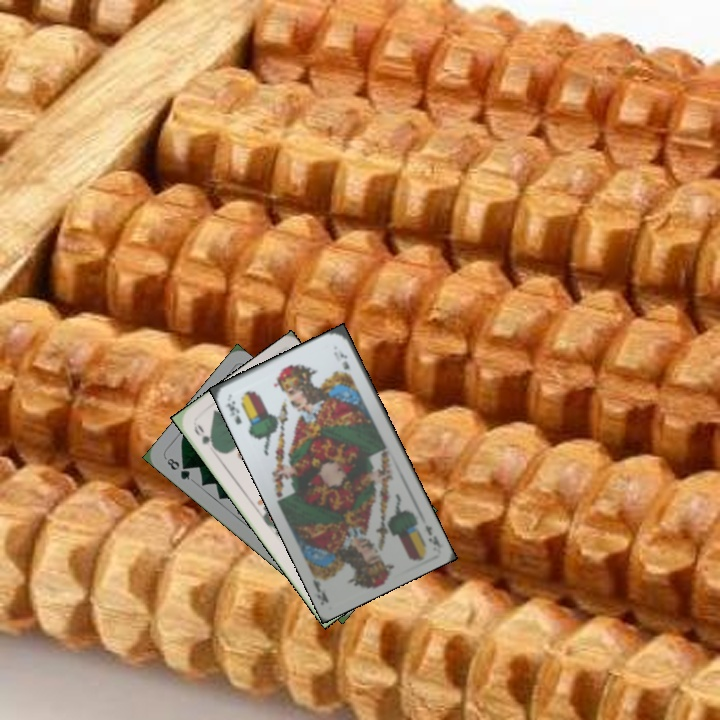EK: (222, 397, 244, 427), (421, 521, 444, 549)
G8: (162, 454, 193, 483)
GO: (190, 420, 220, 453)
